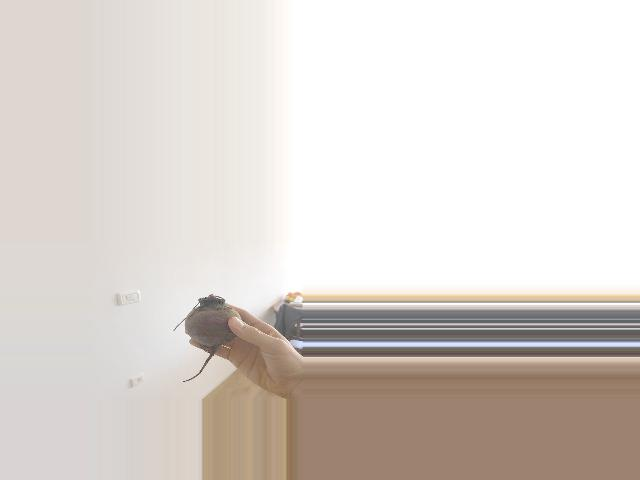beet: (172, 294, 241, 382)
